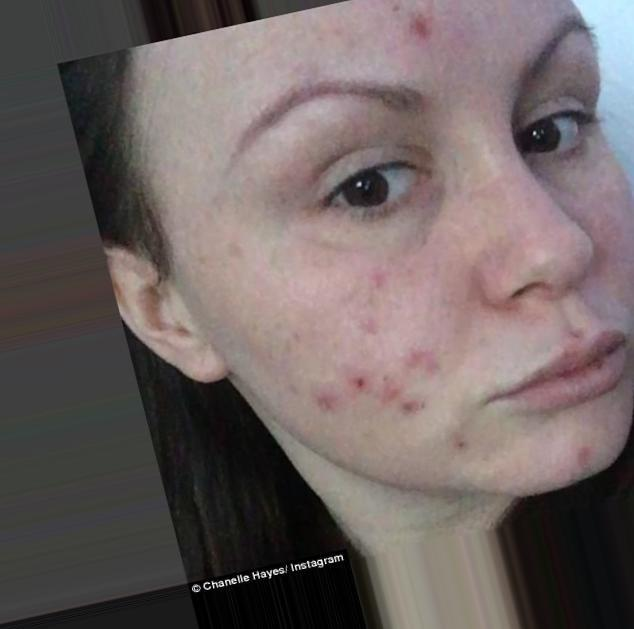Acne: (313, 367, 404, 424), (395, 13, 458, 69), (399, 349, 448, 392), (563, 433, 606, 477), (359, 257, 400, 297), (441, 429, 481, 456)
